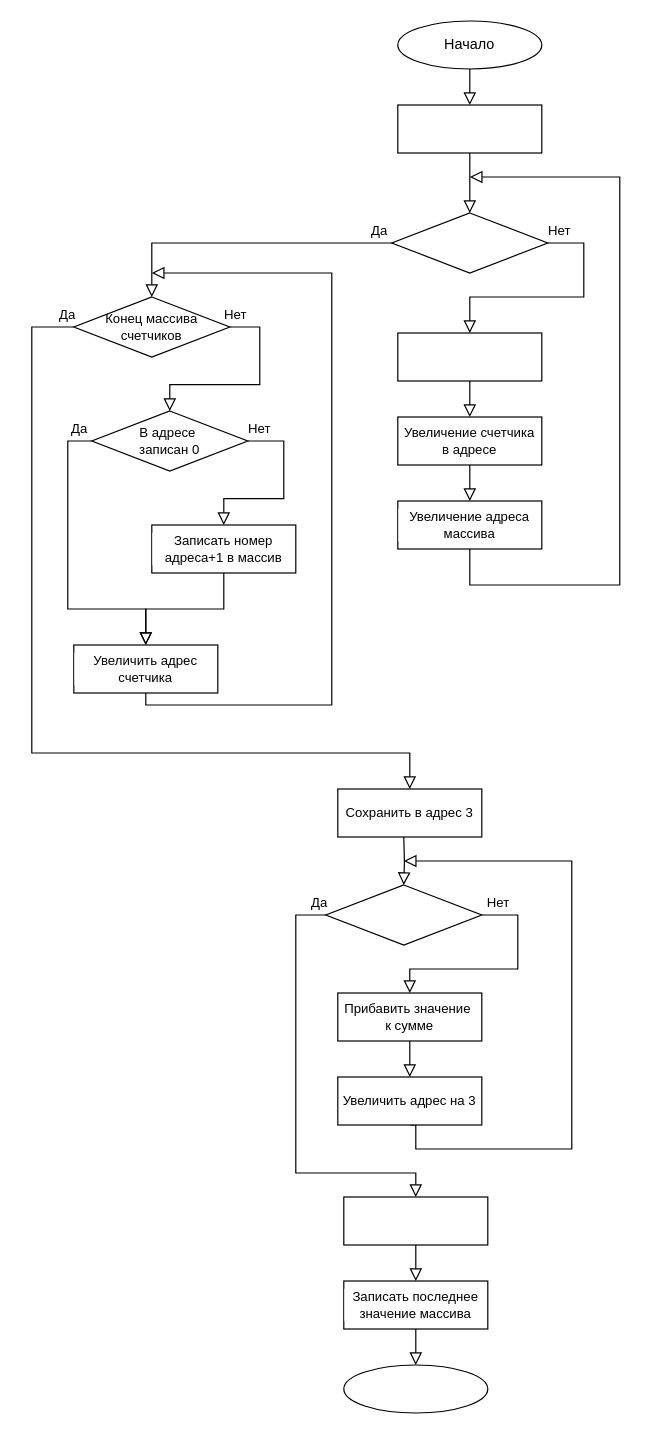
Some shapes in this 653 by 1434 pixel diagram are drawn without their labels. Here are the shapes that lost their labels. From the top down, the centre of each, then its label:
At point 469,128: "Ввод 10 чисел массива".
At point 469,242: "Конец массива достигнут".
At point 469,356: "Переход по адресу, равному числу".
At point 403,914: "Конец отсортированного массива".
At point 415,1220: "Записать первое значение массива".
At point 415,1388: "Конец".
